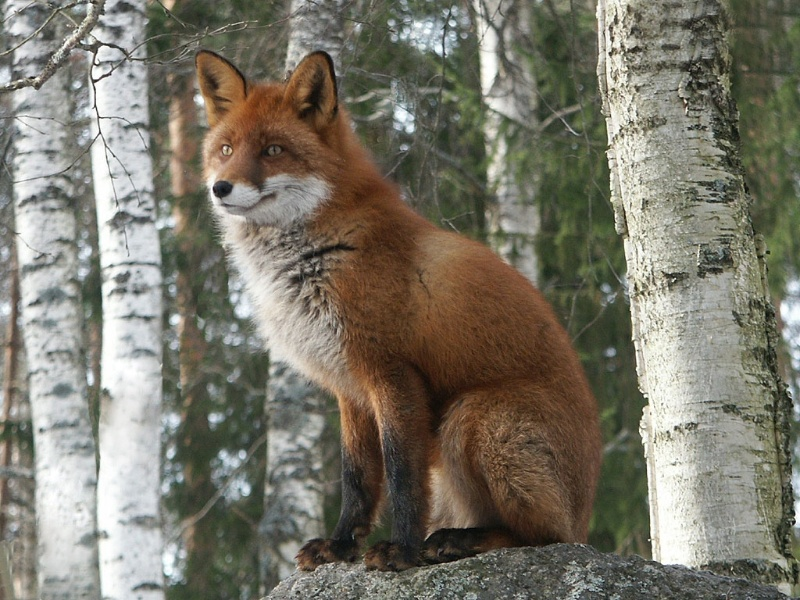fox: (189, 44, 600, 578)
